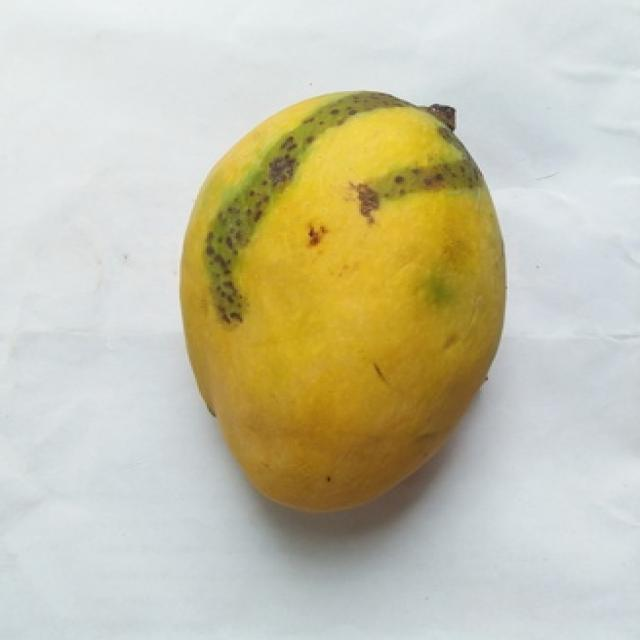Mango: (181, 93, 501, 511)
